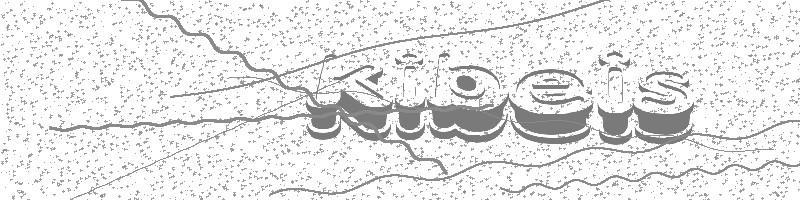b: (428, 42, 511, 148)
e: (504, 66, 600, 156)
i: (593, 41, 637, 151), (395, 41, 430, 146)
k: (306, 48, 394, 150)
s: (628, 65, 698, 148)
